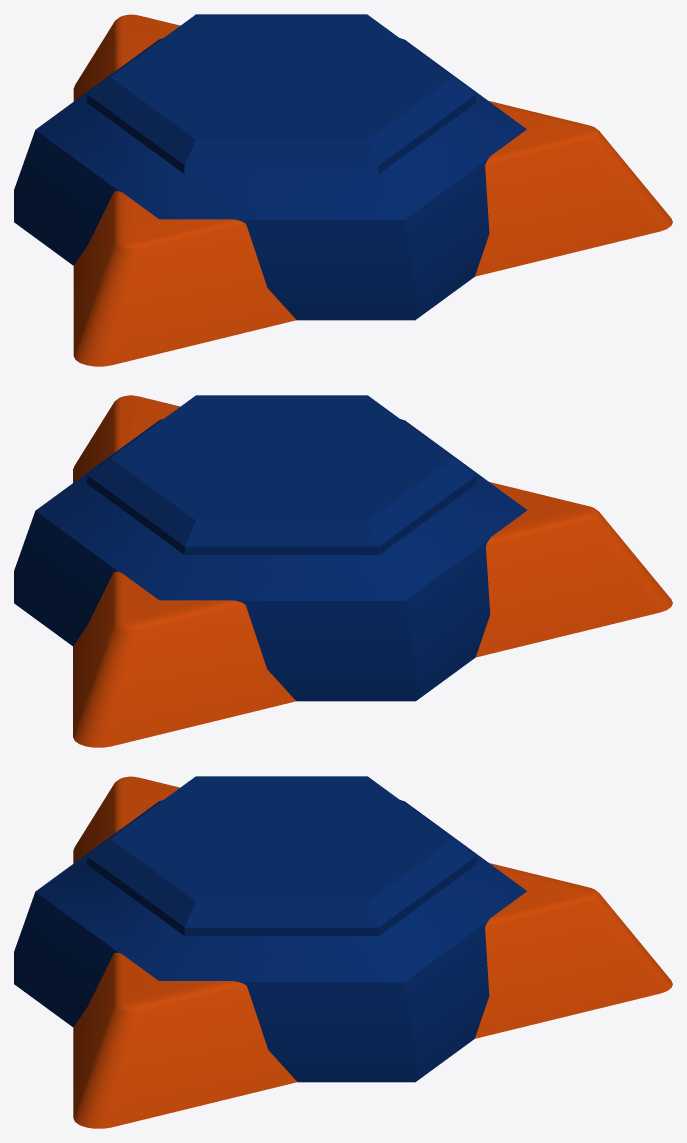
Rendered from item base 1.fbx.
3 renders of one model, top to bottom at view 1: azimuth 30°, elevation 25°; view 2: azimuth 150°, elevation 25°; view 3: azimuth 270°, elevation 25°, orthographic.
Visible parts, largest first — view 1: base (2), tri; view 2: base (2), tri; view 3: base (2), tri.
Part boxes in pixels (x1,y1,x2,y2): base (2): [14, 14, 526, 320]; tri: [73, 14, 672, 366]; base (2): [14, 395, 527, 701]; tri: [73, 395, 672, 747]; base (2): [14, 776, 526, 1082]; tri: [73, 776, 672, 1128].
Bounding box in the file's own units: 255 × 59.82 × 246.
